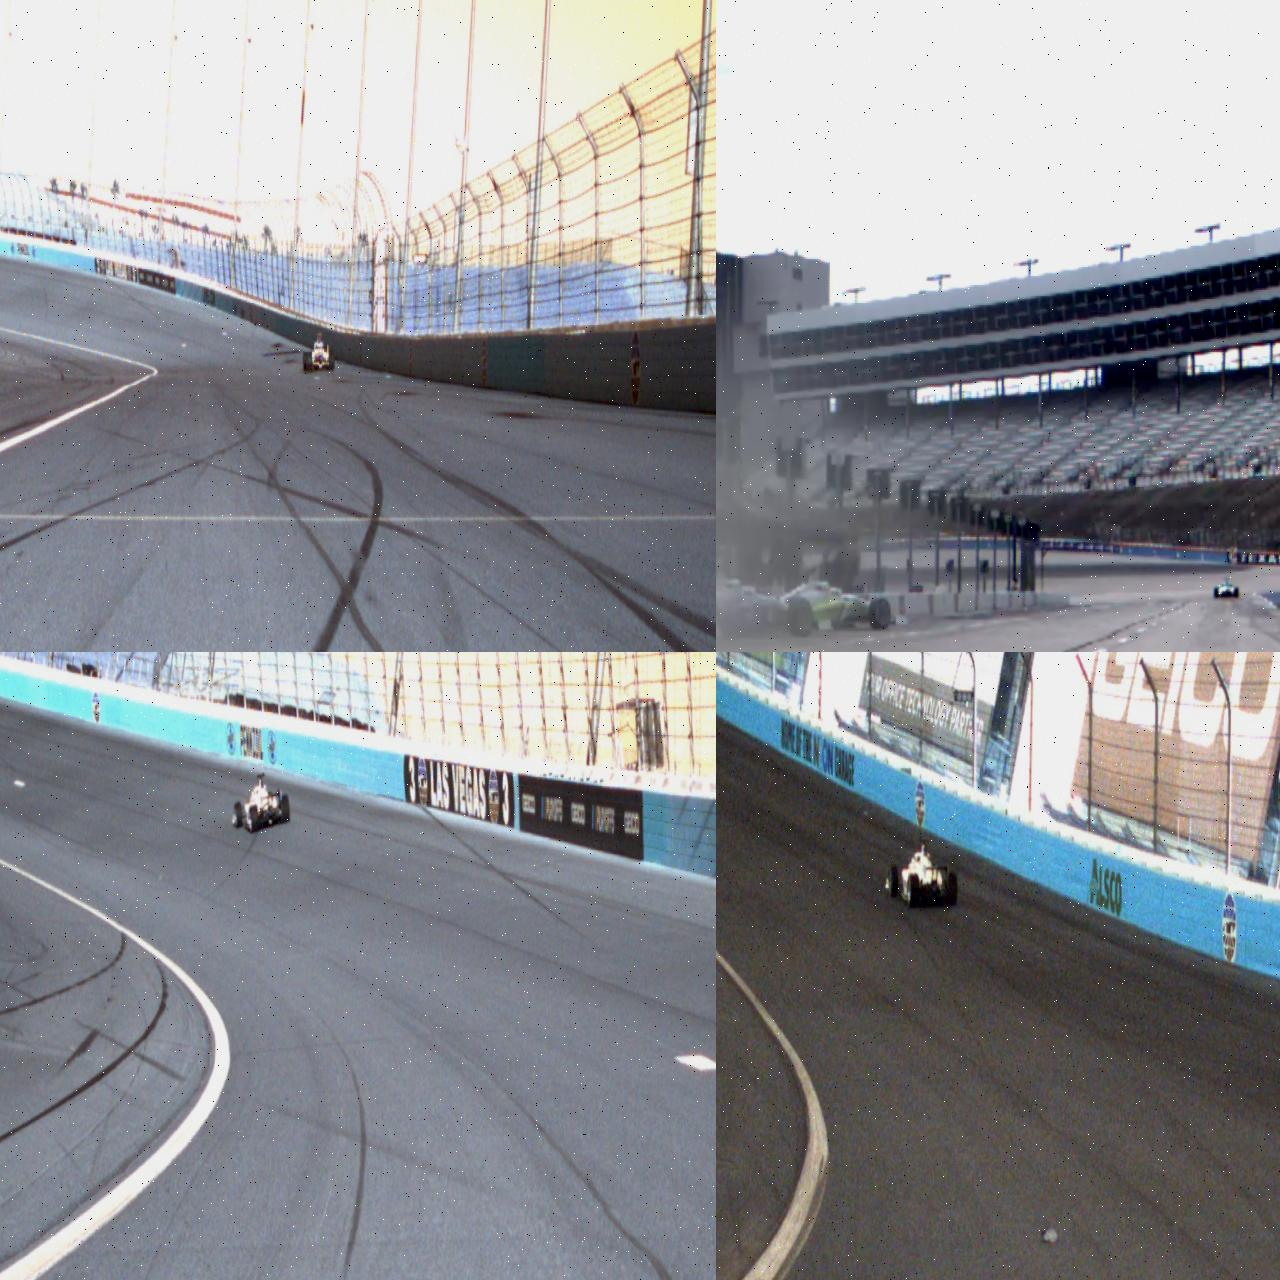AV: (716, 559, 814, 639), (776, 564, 892, 631), (884, 835, 958, 909), (232, 772, 290, 834), (303, 332, 335, 372), (1214, 577, 1240, 599)
Wheel: (788, 598, 814, 638), (869, 598, 892, 631), (906, 874, 920, 908), (888, 865, 898, 898), (948, 872, 958, 904), (280, 794, 290, 824), (248, 805, 258, 834), (234, 801, 243, 828), (329, 350, 335, 370), (306, 352, 312, 371), (304, 352, 308, 371), (1234, 586, 1240, 598), (1214, 587, 1219, 599)
